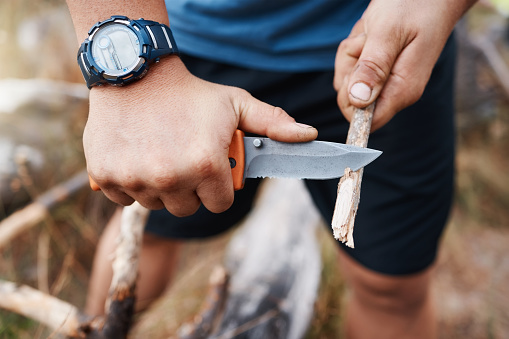knife: (197, 123, 389, 185)
